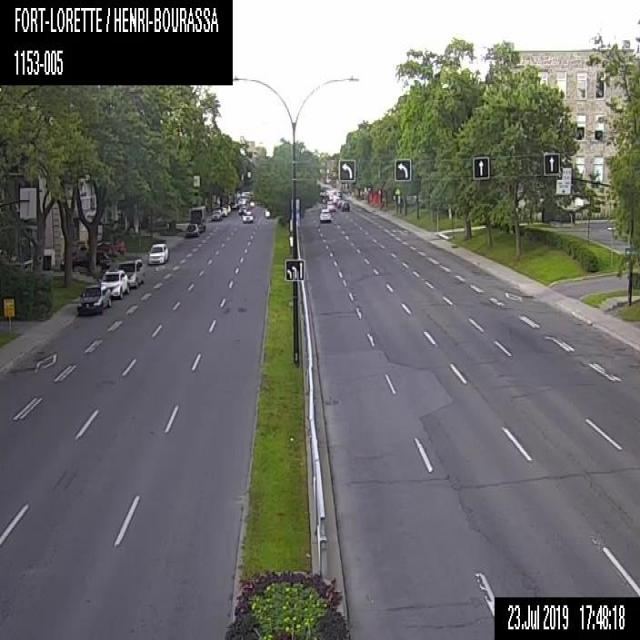vehicle: (59, 250, 109, 272), (76, 283, 110, 314), (82, 235, 125, 257), (100, 268, 130, 298), (118, 258, 146, 286), (146, 242, 169, 262), (188, 205, 205, 231), (183, 222, 198, 238), (318, 208, 331, 221), (210, 207, 221, 220), (242, 210, 253, 222), (262, 208, 272, 220), (326, 200, 335, 210), (238, 204, 247, 214), (337, 198, 345, 208), (341, 200, 349, 210), (220, 206, 227, 216), (229, 200, 236, 208), (225, 203, 230, 213), (336, 190, 342, 196)
